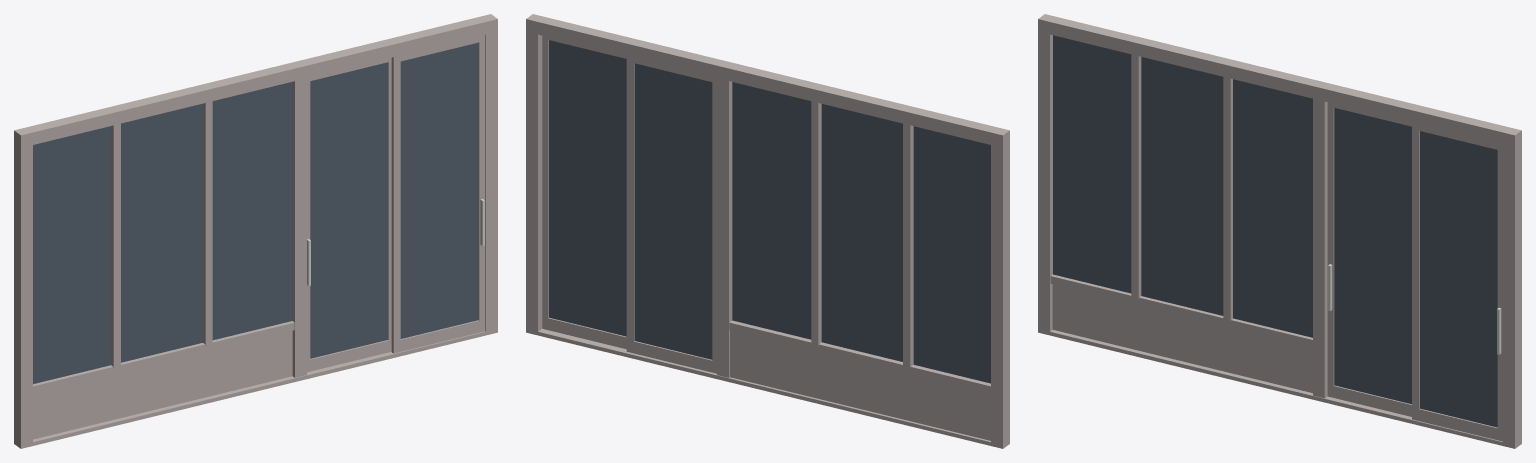
File: SM_Opening_ShopFrontS39_SlideR_Silver_01.gltf
The picture shows the model from 3 angles, left to right: view 1: azimuth 30°, elevation 25°; view 2: azimuth 150°, elevation 25°; view 3: azimuth 330°, elevation 25°; orthographic projection.
Parts seen in each view (by area): view 1: SM_Opening_ShopFrontS39_SlideR_Silver_01; view 2: SM_Opening_ShopFrontS39_SlideR_Silver_01; view 3: SM_Opening_ShopFrontS39_SlideR_Silver_01.
Boxes of the visible parts, x1,y1,x2,y2 form: SM_Opening_ShopFrontS39_SlideR_Silver_01: (14,14,497,448); SM_Opening_ShopFrontS39_SlideR_Silver_01: (526,14,1009,448); SM_Opening_ShopFrontS39_SlideR_Silver_01: (1038,14,1521,448).
Bounding box in the file's own units: 3.98 × 2.5 × 0.12.
1 material, 1 textured.
